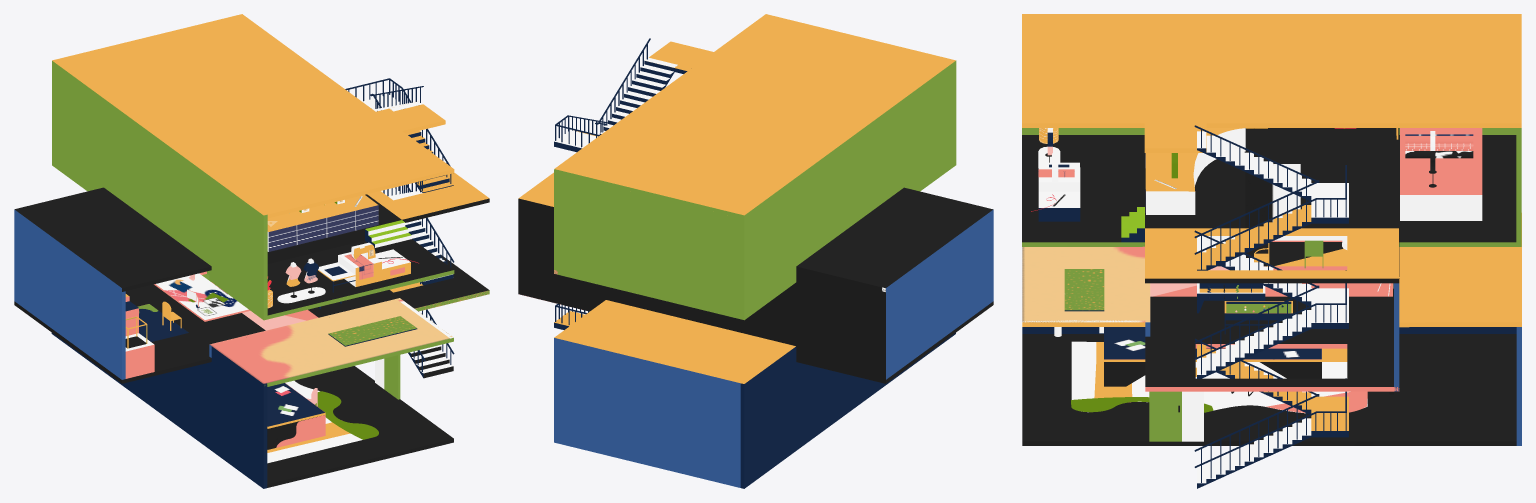
File: 服装大楼.fbx
The picture shows the model from 3 angles, left to right: view 1: azimuth 30°, elevation 25°; view 2: azimuth 150°, elevation 25°; view 3: azimuth 270°, elevation 25°; orthographic projection. The views are drawn at different scales.
Parts seen in each view (by area): view 1: 布尔_2, 挤压_1_2, 挤压_5, 右侧地毯, 桌子, L桌子, 楼梯_2, 楼梯_1, 操作台, 顶_草地, 楼梯_2_2, 左下机器 (+5 smaller); view 2: 布尔_2, 楼梯_2, 右侧地毯; view 3: 布尔_2, 楼梯_2, 右侧地毯, 楼梯_2_2, 楼梯_1, 挤压_5, 展示台, 桌子, 挤压_1_2, 门_2, 地毯, 操作台 (+5 smaller).
Part boxes in pixels (left/top/right/bottom): 布尔_2: left=14, top=14, right=489, bottom=488; 挤压_1_2: left=267, top=195, right=378, bottom=251; 挤压_5: left=267, top=380, right=378, bottom=463; 右侧地毯: left=367, top=173, right=489, bottom=219; 桌子: left=267, top=383, right=325, bottom=449; L桌子: left=154, top=273, right=250, bottom=321; 楼梯_2: left=345, top=78, right=453, bottom=192; 楼梯_1: left=381, top=181, right=454, bottom=285; 操作台: left=338, top=249, right=410, bottom=286; 顶_草地: left=328, top=316, right=417, bottom=346; 楼梯_2_2: left=390, top=282, right=454, bottom=378; 左下机器: left=125, top=333, right=154, bottom=378; 布尔_2: left=518, top=14, right=993, bottom=488; 楼梯_2: left=554, top=38, right=677, bottom=152; 右侧地毯: left=518, top=172, right=553, bottom=206; 布尔_2: left=1022, top=14, right=1521, bottom=445; 楼梯_2: left=1194, top=125, right=1348, bottom=270; 右侧地毯: left=1145, top=228, right=1398, bottom=278; 楼梯_2_2: left=1194, top=338, right=1348, bottom=488; 楼梯_1: left=1194, top=230, right=1348, bottom=378; 挤压_5: left=1071, top=341, right=1367, bottom=413; 展示台: left=1400, top=128, right=1482, bottom=220; 桌子: left=1104, top=327, right=1321, bottom=386; 挤压_1_2: left=1145, top=128, right=1245, bottom=214; 门_2: left=1149, top=367, right=1203, bottom=441; 地毯: left=1150, top=248, right=1392, bottom=296; 操作台: left=1038, top=167, right=1080, bottom=221.
Bounding box in the file's own units: 1468 × 1119 × 1466.
